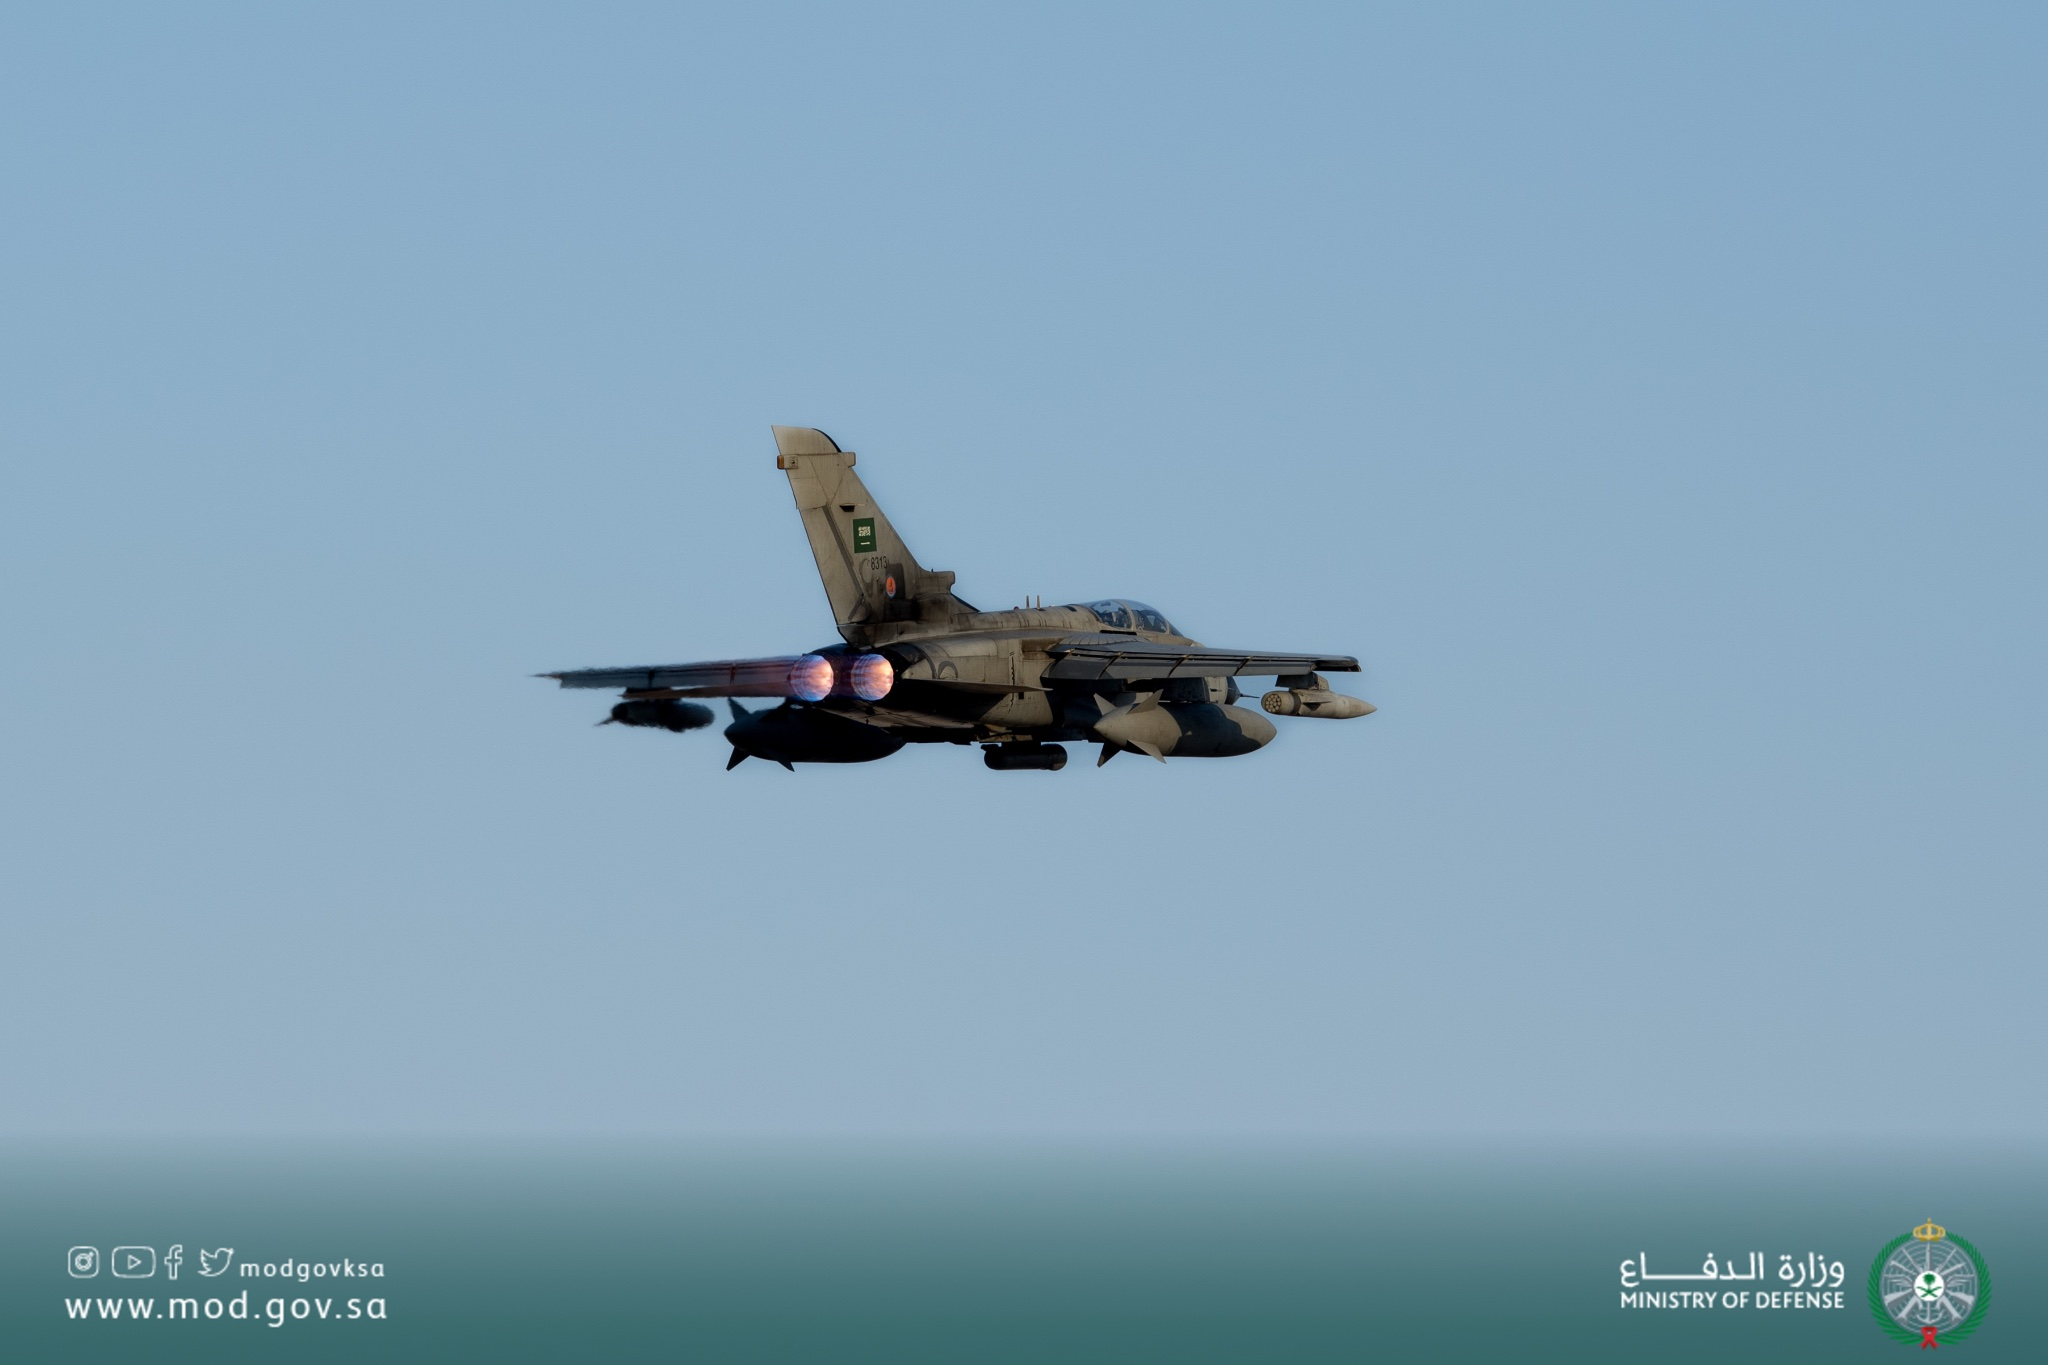Tornado: (521, 424, 1378, 772)
